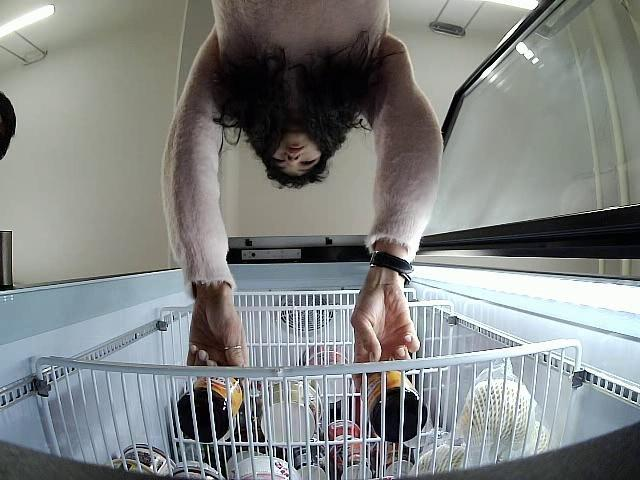17_vita500: (358, 365, 431, 442), (177, 375, 244, 448)
